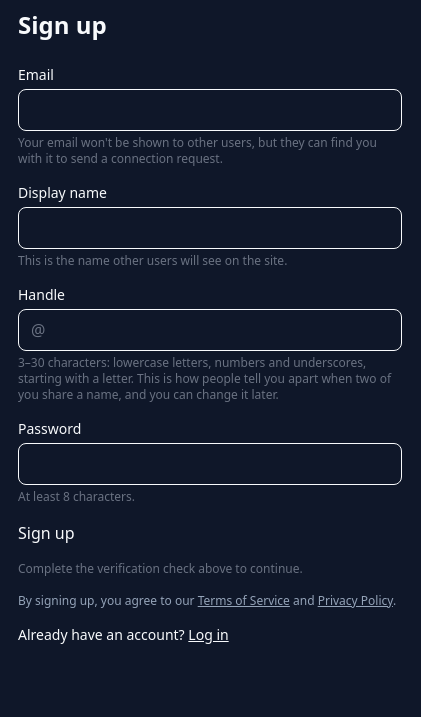
Test: SignupPage with Turnstile enabled › explains a rejected token and draws a fresh challenge
Type "x@y.com" into the field labelled "Email" at (210, 110), box [18, 89, 402, 131]
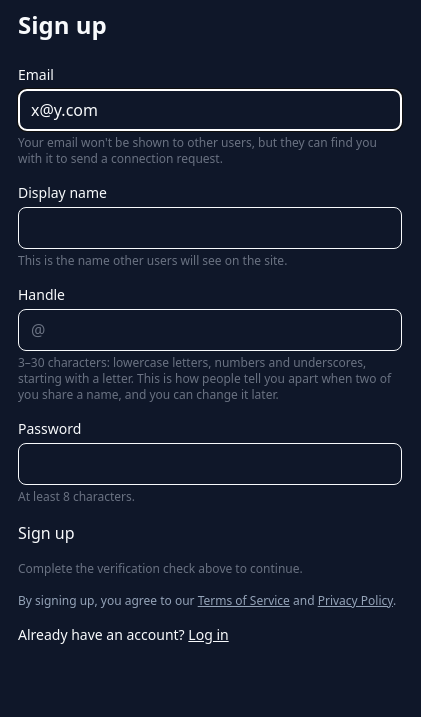
Type "X" into the field labelled "Display name" at (210, 228), box [18, 207, 402, 249]
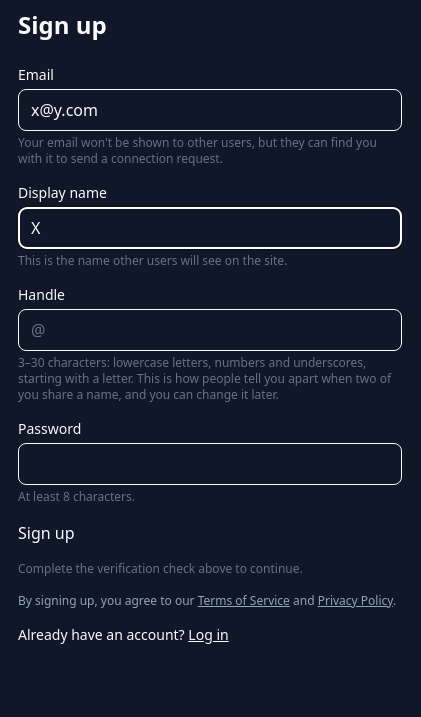
Type "x_user" into the field labelled "Handle" at (223, 330), box [45, 310, 401, 350]
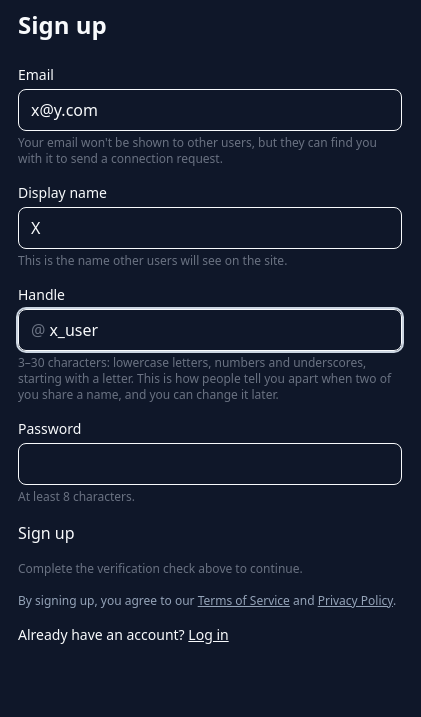
Type "hunter2hunter2" into the password field labelled "Password" at (210, 464), box [18, 443, 402, 485]
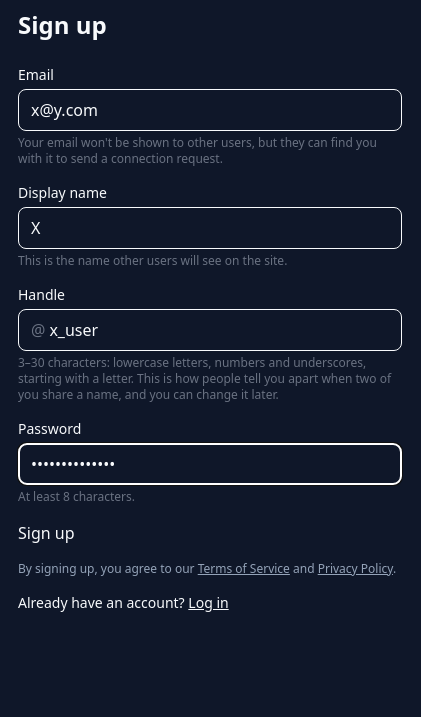
Click the button "Sign up" at (46, 533), box [18, 521, 74, 545]
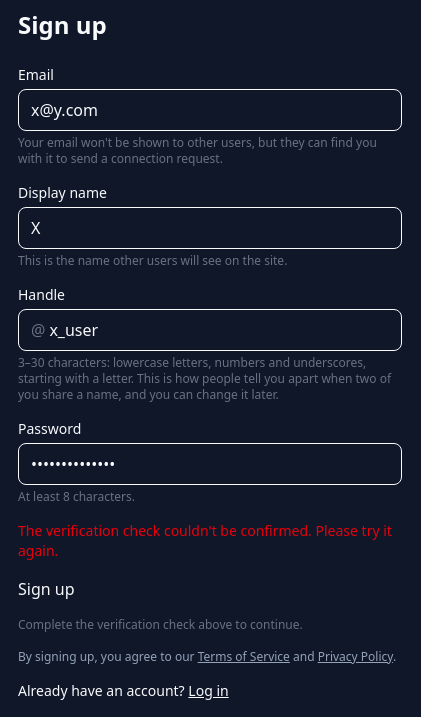
Expected: the text "couldn't be confirmed" is shown, [18, 521, 392, 560]
